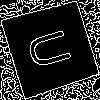U: (25, 23, 82, 72)
